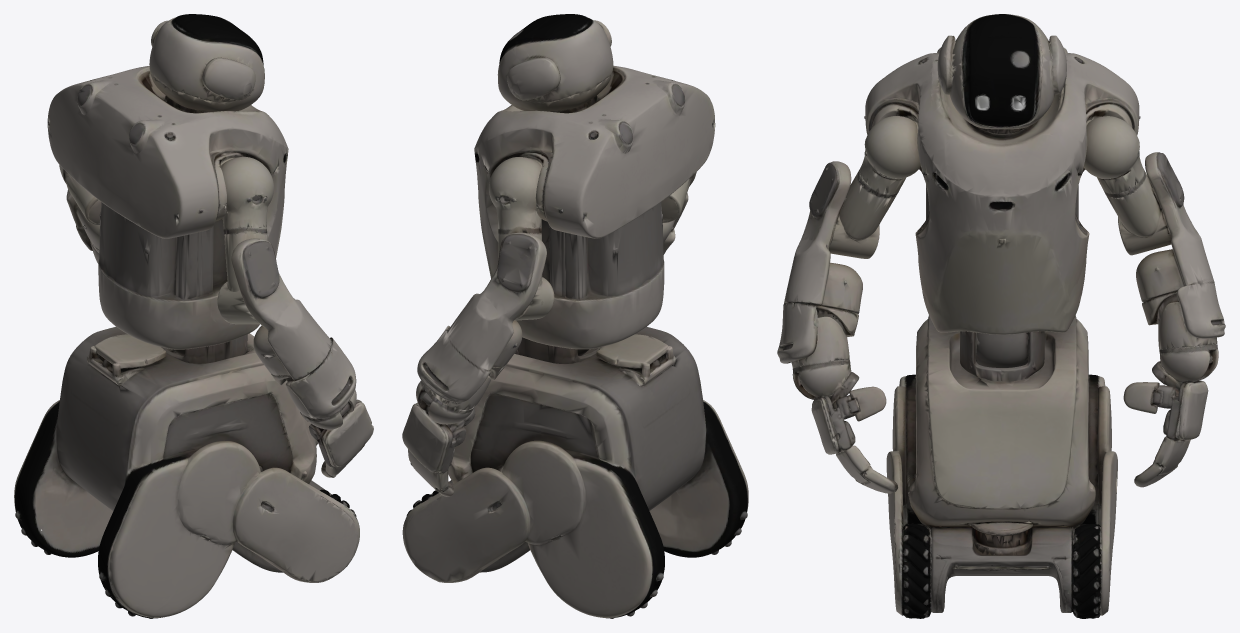
Rendered from nia.glb.
The picture shows the model from 3 angles, left to right: view 1: azimuth 30°, elevation 25°; view 2: azimuth 150°, elevation 25°; view 3: azimuth 270°, elevation 25°; orthographic projection.
Parts seen in each view (by area): view 1: tripo_node_0fd98d27-bb60-4c66-bdf4-da179c4658de; view 2: tripo_node_0fd98d27-bb60-4c66-bdf4-da179c4658de; view 3: tripo_node_0fd98d27-bb60-4c66-bdf4-da179c4658de.
Part boxes in pixels (bbox=[...]): tripo_node_0fd98d27-bb60-4c66-bdf4-da179c4658de: bbox=[14, 14, 373, 618]; tripo_node_0fd98d27-bb60-4c66-bdf4-da179c4658de: bbox=[402, 14, 748, 618]; tripo_node_0fd98d27-bb60-4c66-bdf4-da179c4658de: bbox=[777, 14, 1225, 618].
Bounding box in the file's own units: 0.4783 × 0.9797 × 0.7135.
Materials: 1 (1 with a texture image).
